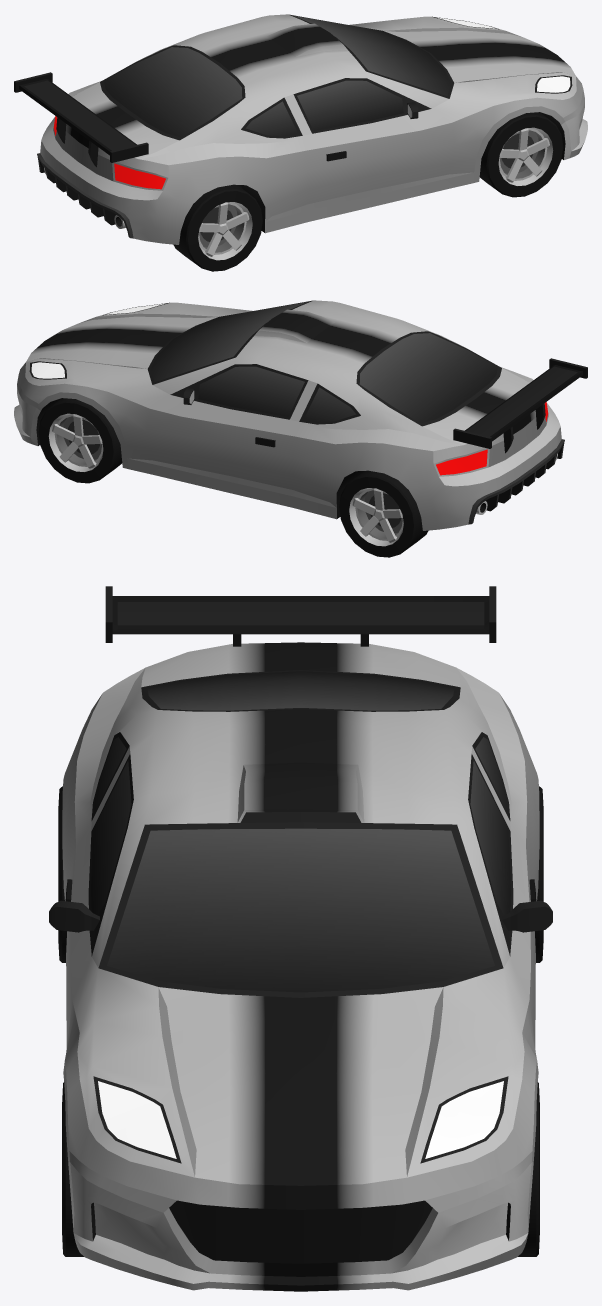
The model's file is Car_206.glb.
3 views of the same model, one above another, from view 1: azimuth 30°, elevation 25°; view 2: azimuth 150°, elevation 25°; view 3: azimuth 270°, elevation 25° (orthographic). The views are drawn at different scales.
Visible parts, largest first — view 1: Car_206, wheel_3_Car_206_Wheel_2R, wheel_1_Car_206_Wheel_1R; view 2: Car_206, wheel_2_Car_206_Wheel_2L, wheel_0_Car_206_Wheel_1L; view 3: Car_206, wheel_0_Car_206_Wheel_1L, wheel_1_Car_206_Wheel_1R.
Boxes of the visible parts, x1=… form: Car_206: x1=14, y1=14, x2=587, y2=244; wheel_3_Car_206_Wheel_2R: x1=173, y1=184, x2=262, y2=271; wheel_1_Car_206_Wheel_1R: x1=479, y1=112, x2=563, y2=197; Car_206: x1=14, y1=300, x2=587, y2=530; wheel_2_Car_206_Wheel_2L: x1=339, y1=470, x2=428, y2=557; wheel_0_Car_206_Wheel_1L: x1=38, y1=398, x2=122, y2=483; Car_206: x1=49, y1=586, x2=552, y2=1291; wheel_0_Car_206_Wheel_1L: x1=518, y1=1082, x2=539, y2=1256; wheel_1_Car_206_Wheel_1R: x1=62, y1=1082, x2=83, y2=1256.
Size of the model in its own units: 4.53 by 1.36 by 1.98.
Materials: 2 (2 with a texture image).
